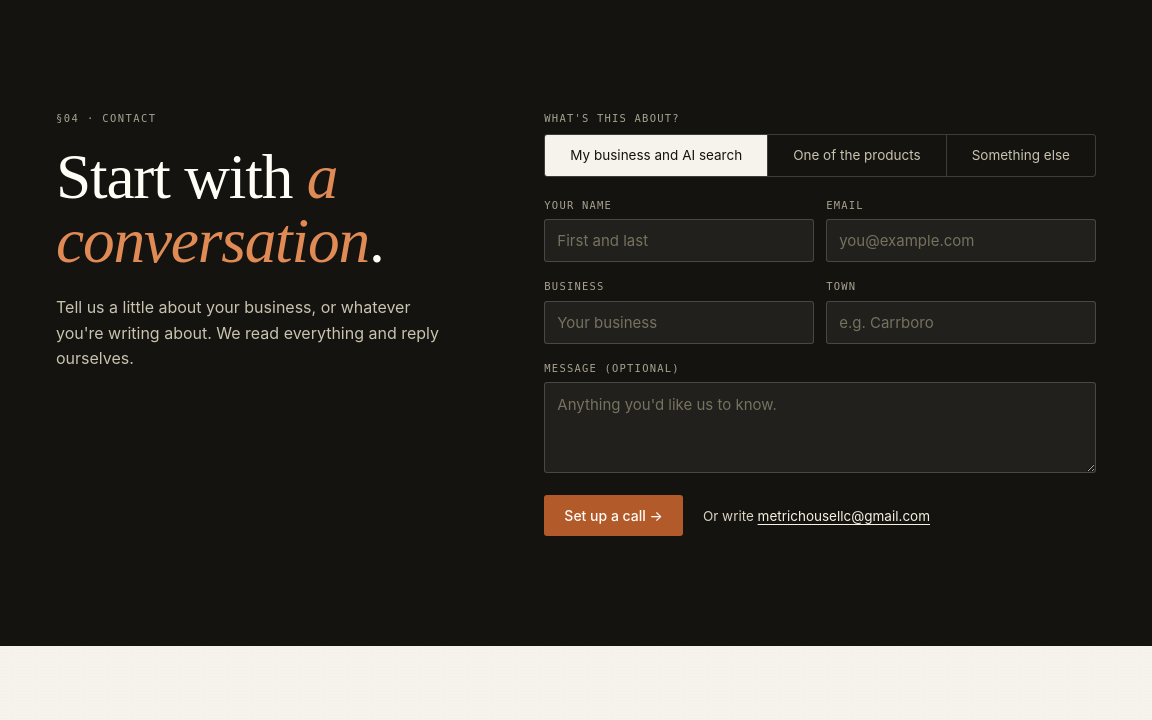
Contact › requires business and town on the GEO topic
The width and height of the screenshot is (1152, 720).
Type "Pat" into the field with placeholder "First and last". click: (679, 241)
box: [544, 220, 814, 262]
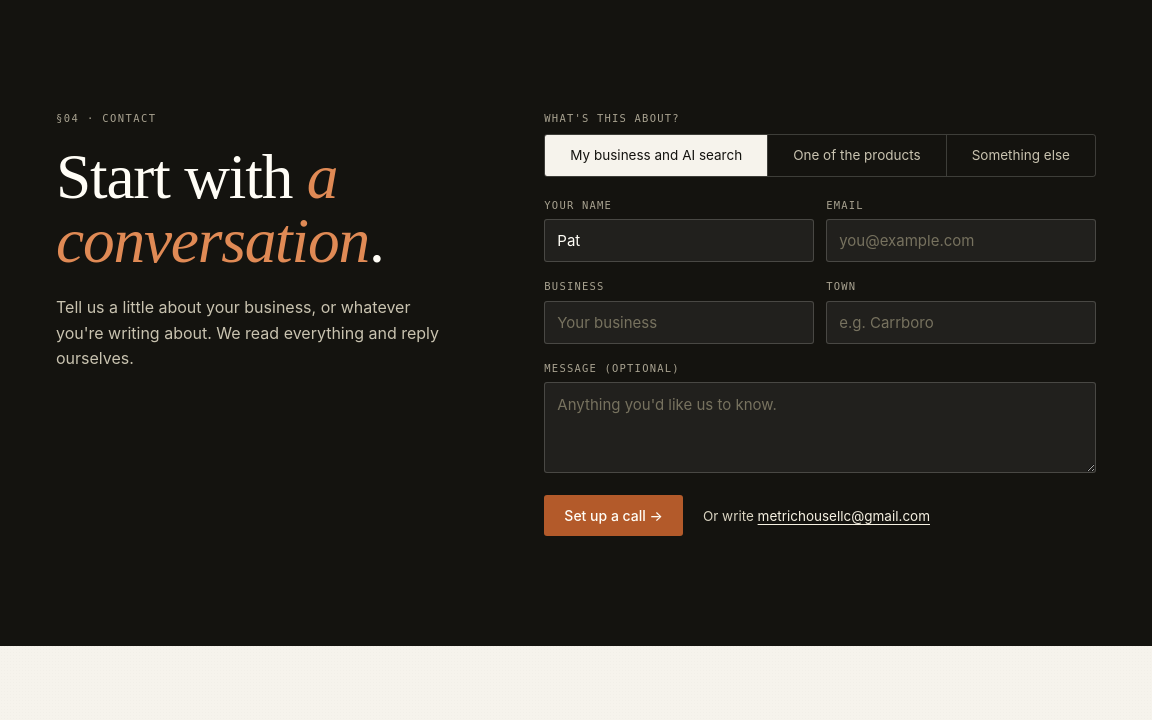
Type "pat@example.com" into the field with placeholder "you@example.com". click: (961, 241)
box: [826, 220, 1096, 262]
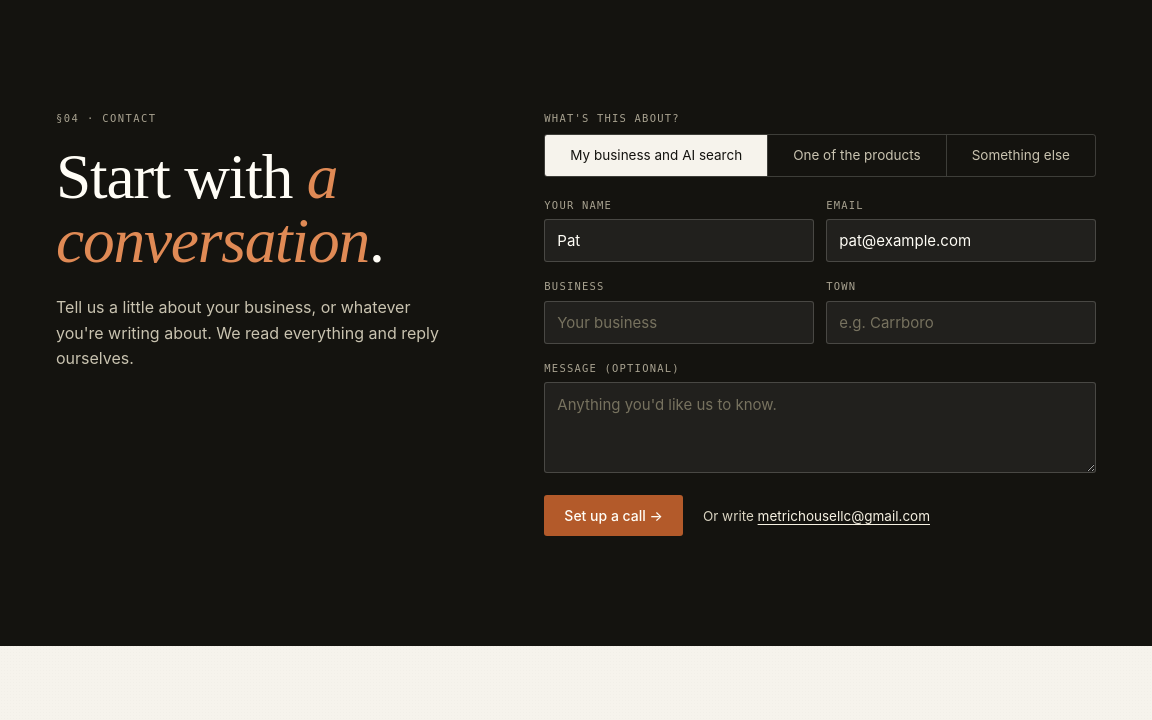
Click the button "Set up a call →". click: (614, 516)
box: [544, 496, 683, 536]
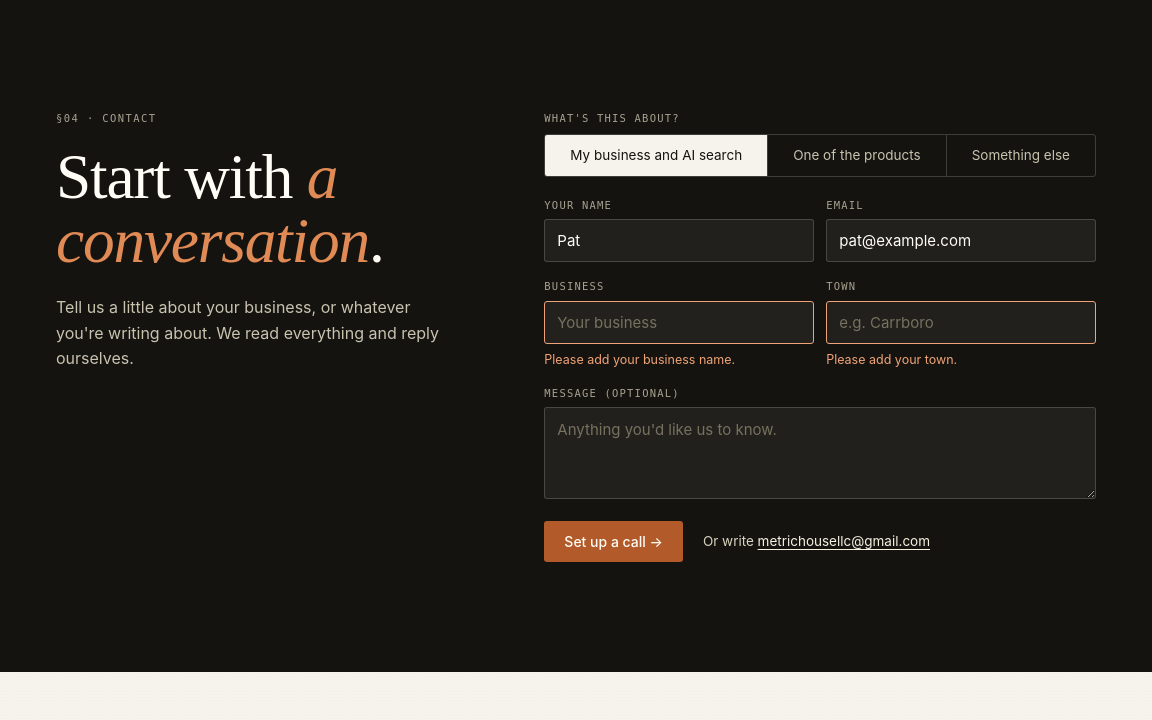
Expected: the text "Please add your business name." is shown, [544, 352, 735, 367]
Expected: the text "Please add your town." is shown, [826, 352, 957, 367]
